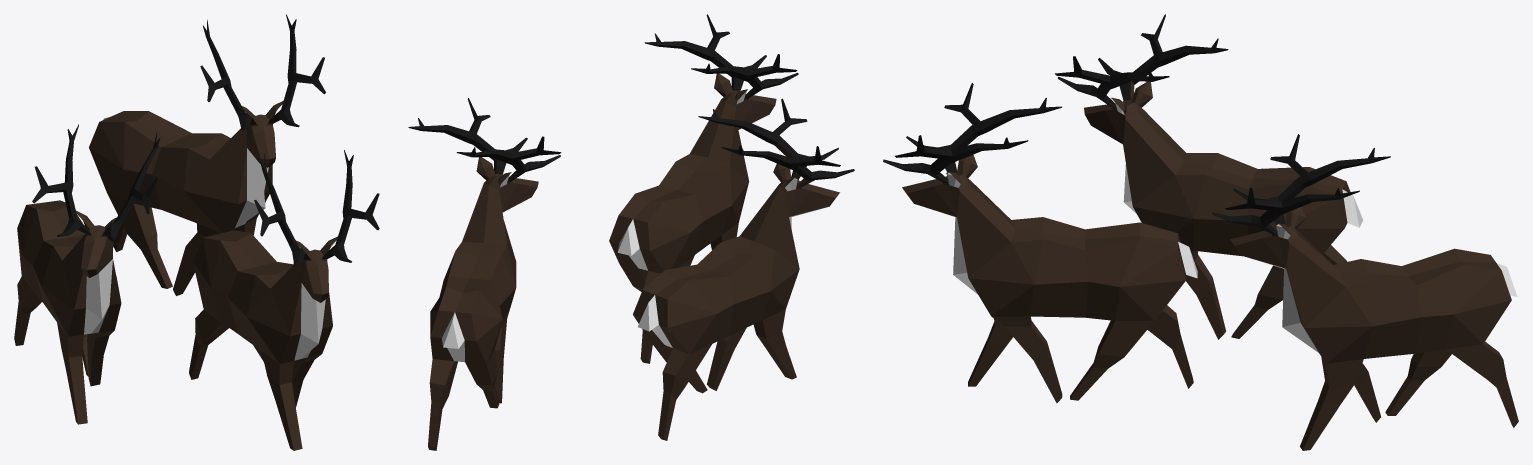
The model's file is 8th_dec_reindeer.glb.
3 renders of one model, left to right at view 1: azimuth 30°, elevation 25°; view 2: azimuth 150°, elevation 25°; view 3: azimuth 270°, elevation 25°, orthographic. The views are drawn at different scales.
Visible parts, largest first — view 1: Object_2, Object_3, Object_4; view 2: Object_2, Object_3, Object_4; view 3: Object_2, Object_3, Object_4.
Part boxes in pixels (x1,y1,x2,y2): Object_2: (14, 101, 337, 450); Object_3: (32, 14, 379, 265); Object_4: (84, 108, 336, 360); Object_2: (428, 73, 839, 450); Object_3: (408, 14, 854, 182); Object_4: (441, 90, 828, 362); Object_2: (902, 81, 1518, 450); Object_3: (883, 14, 1390, 235); Object_4: (928, 102, 1517, 353).
Bounding box in the file's own units: 3.04 × 2.19 × 4.36.
